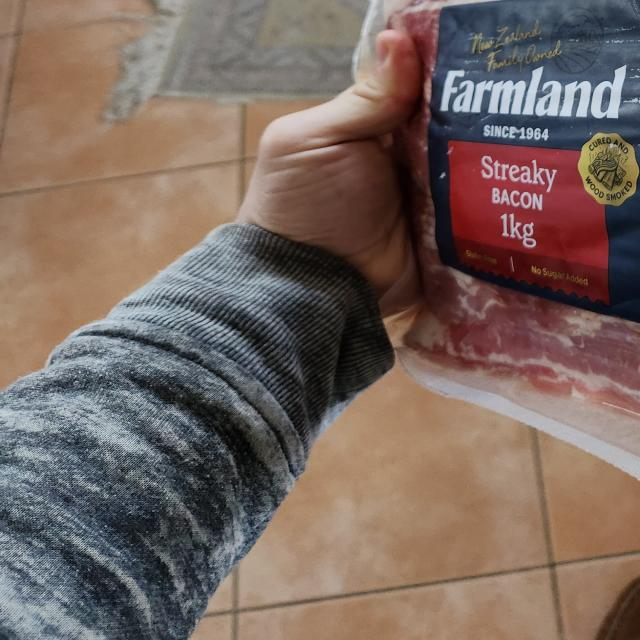bacon: (243, 0, 640, 601)
